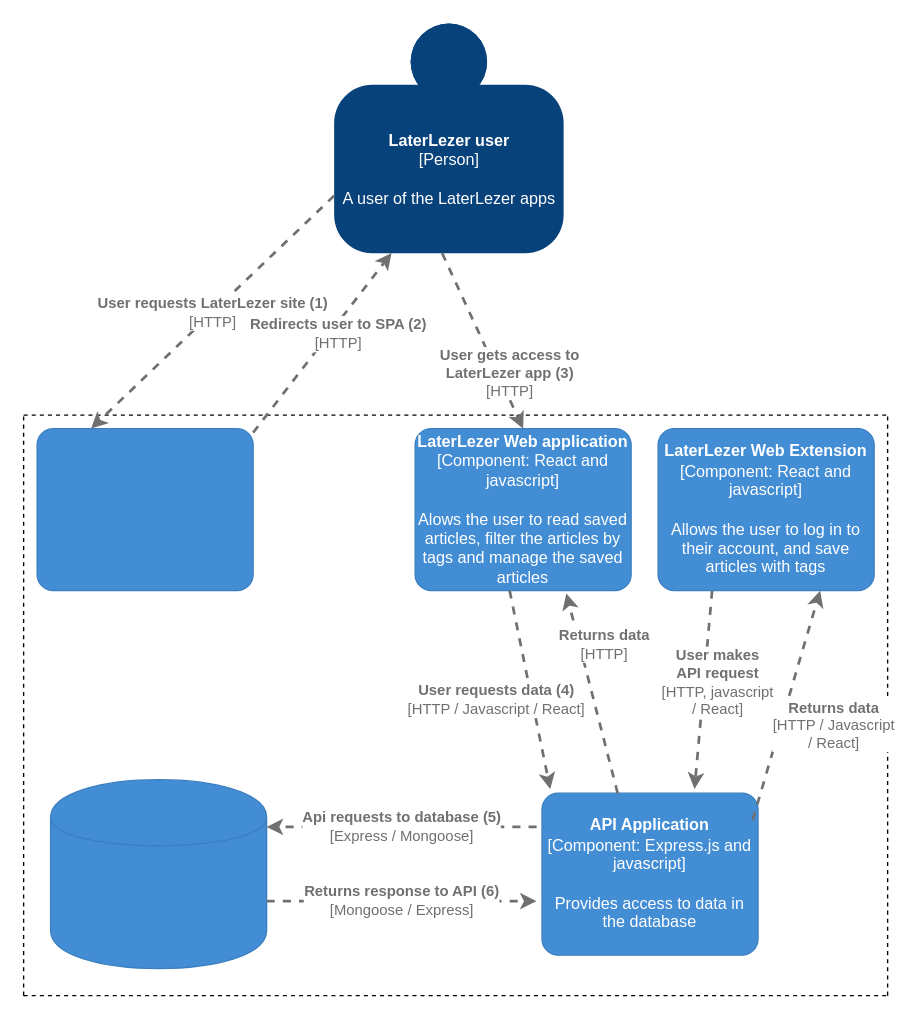
Some shapes in this 918 by 1021 pixel diagram are drawn without their labels. The box of each missing label's shape, as (x1, y1, x2, y2) in pixels:
Database [Container: MongoDB] Database: (49, 778, 267, 969)
Webserver [Component: Node.js] Hosts the single page applications: (36, 427, 253, 591)
